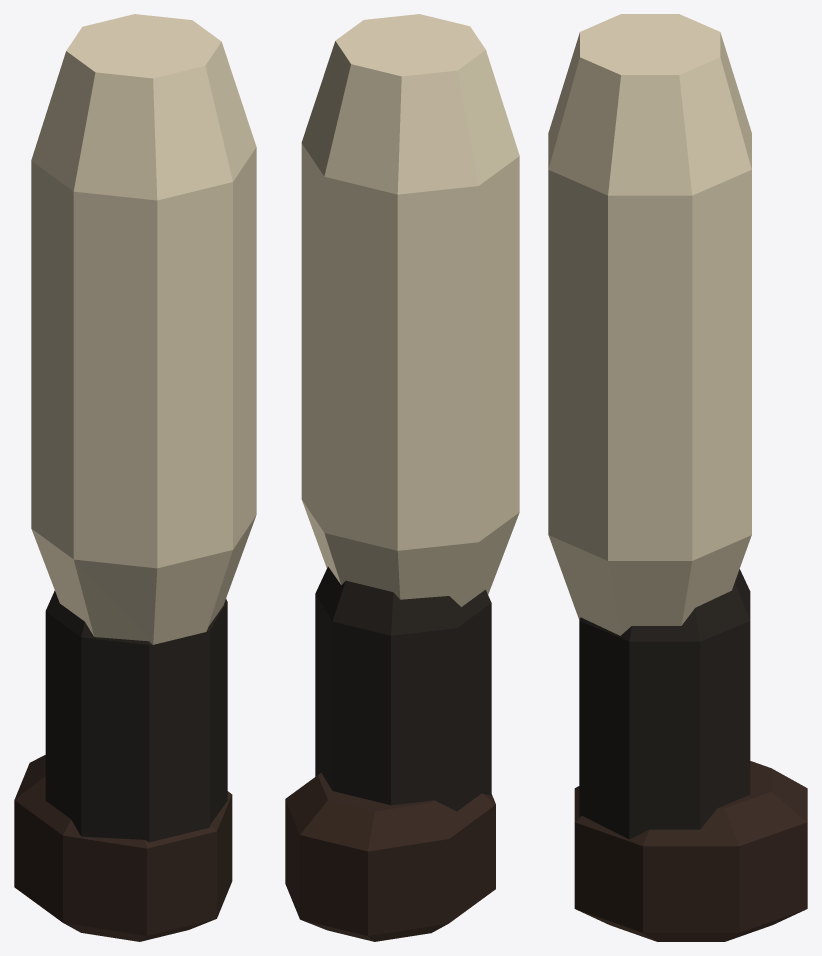
Rendered from cow-spotted-leg.obj.
3 views of the same model, side by side, from view 1: azimuth 30°, elevation 25°; view 2: azimuth 150°, elevation 25°; view 3: azimuth 270°, elevation 25° (orthographic). The views are drawn at different scales.
Visible parts, largest first — view 1: cow-spotted-leg; view 2: cow-spotted-leg; view 3: cow-spotted-leg.
Boxes of the visible parts, x1,y1,x2,y2 form: cow-spotted-leg: [14, 14, 256, 941]; cow-spotted-leg: [285, 14, 519, 941]; cow-spotted-leg: [548, 14, 807, 941].
Size of the model in its own units: 0.1996 by 0.912 by 0.2465.
